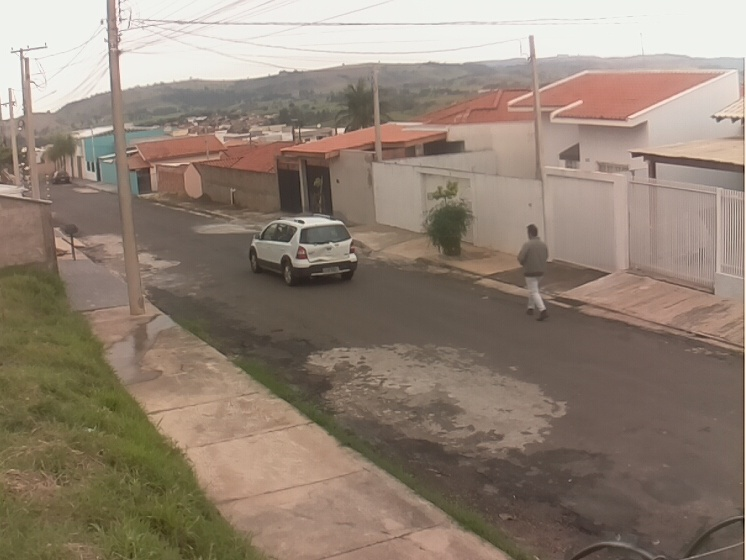person: (516, 223, 555, 322)
